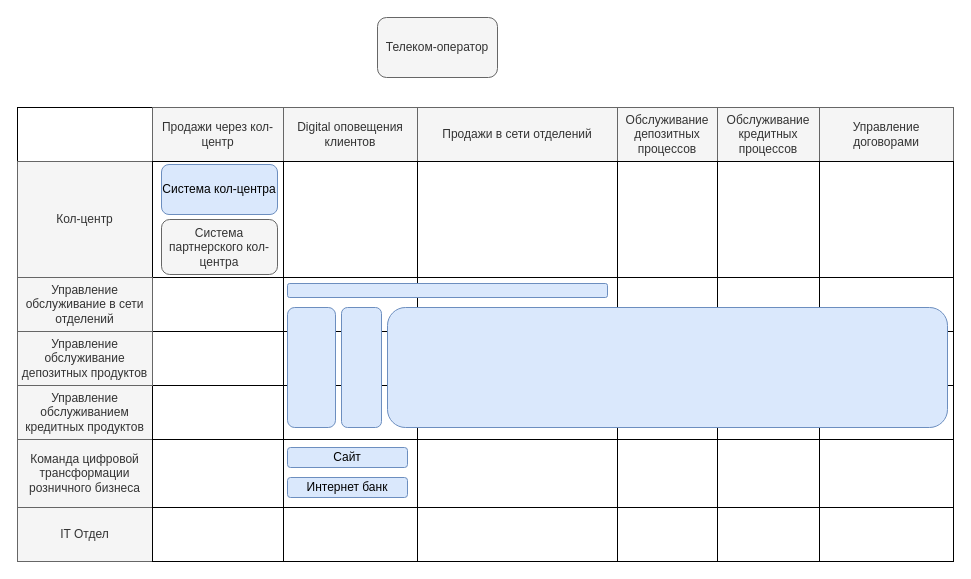
Image size: 971x579. Some labels were removed from this diagram. Here are the shapes that lost their labels. From the top down, the centre of each, then its label:
At [447,290]: "СМС-шлюз телеком оператора".
At [311,367]: "Почта".
At [361,367]: "Excel".
At [667,367]: "АБС".
